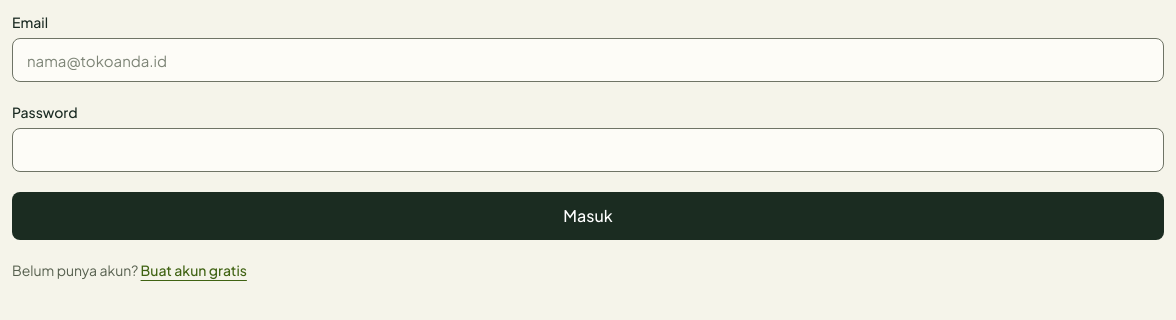
Test: LoginForm: aria-describedby menunjuk elemen yang ada › menunjuk id yang benar-benar ada di DOM
What coordinates should you click on to do the following:
click the button "Masuk"
I would click on:
 (588, 216)
Its box is [12,192,1164,240].
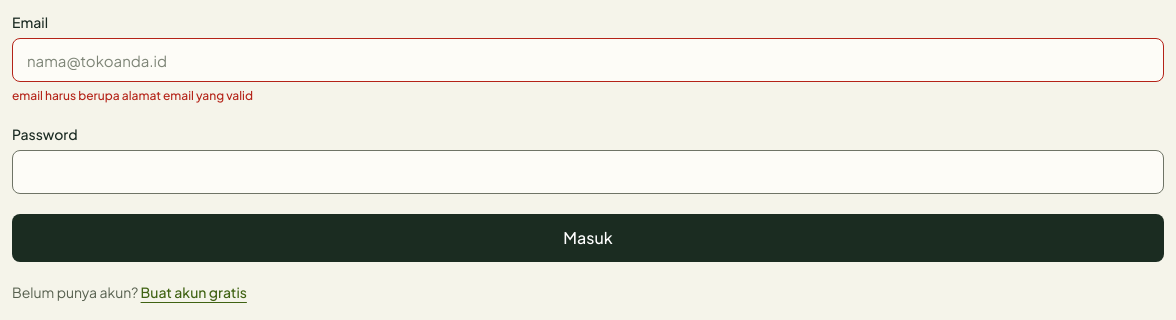
Now the message with id "email-error" reads "email harus berupa alamat email yang valid", box [12,88,253,103]
